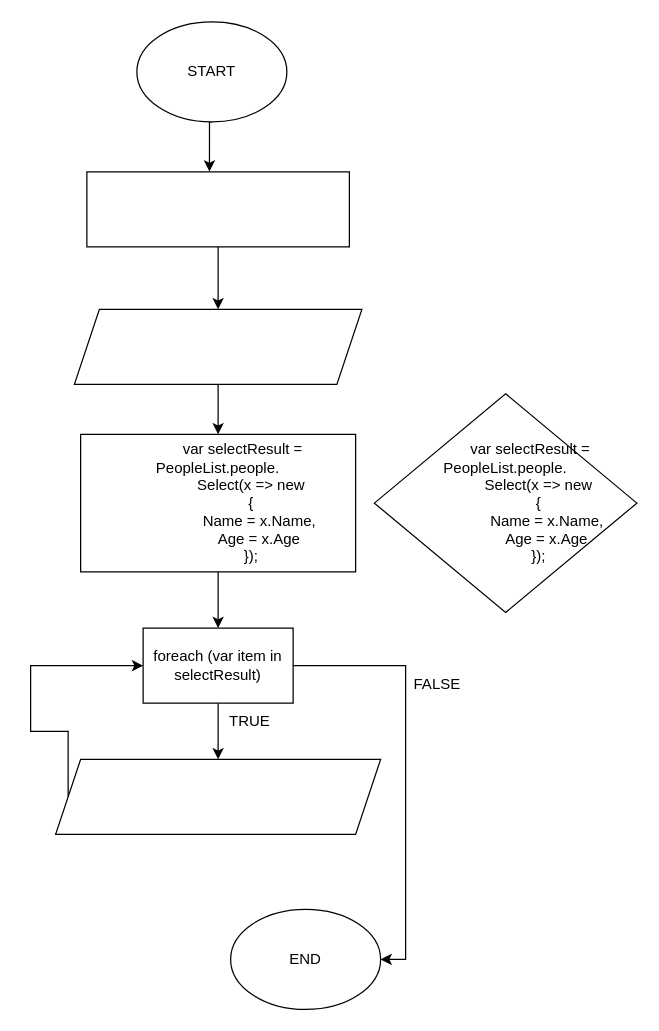
The diagram is 659 pixels wide and 1031 high, and some of its shapes have lost their labels. The box of each missing label's shape, as (x1, y1, x2, y2) in pixels:
Console.BackgroundColor = ConsoleColor.Green;: (86, 171, 349, 247)
Console.WriteLine("\nSelect LINQ");: (73, 308, 362, 384)
Console.WriteLine("Nimi: {0}, Vanus: {1}", item.Name, item.Age);: (54, 758, 381, 834)
